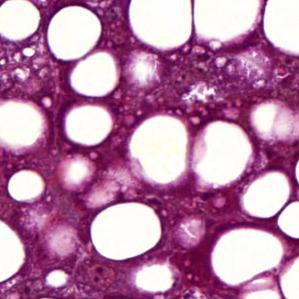steatosis: (87, 199, 167, 262), (47, 5, 105, 65)
